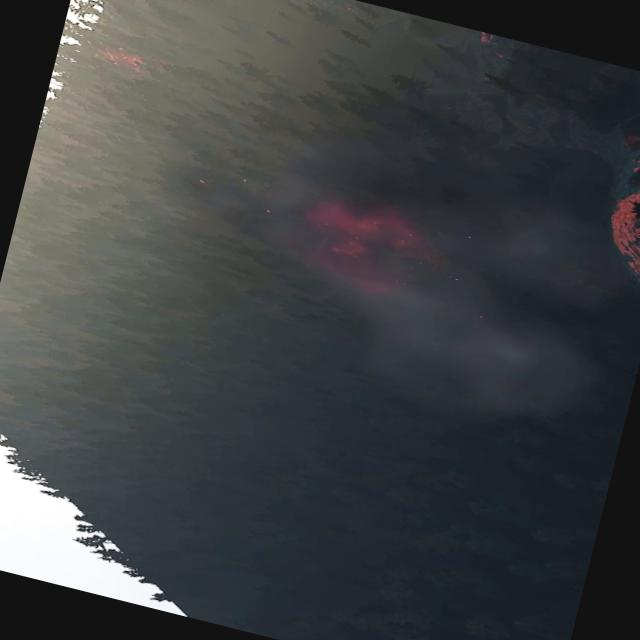fire: (296, 192, 424, 274), (104, 46, 147, 70)
smoke: (84, 107, 636, 445)
